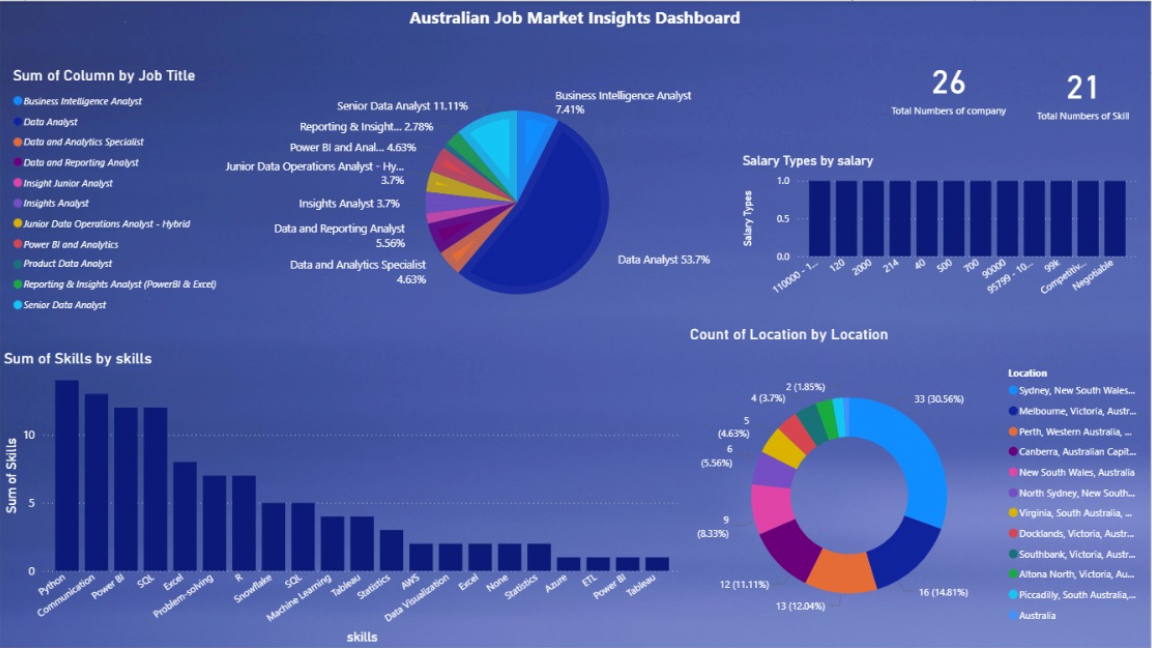

What the dashboard file says about the page in this screenshot:
{"tool":"powerbi","page":{"name":"Page 1","canvas":[1280,720],"ordinal":0},"visuals":[{"type":"textbox","box":[0,0,1280,41.3],"z":0},{"type":"pieChart","fields":{"Category":["Australian_Job_Market.job_title"],"Y":["select","Sum(Australian_Job_Market.Column)"]},"box":[0,72,905.8,287.9],"z":1000},{"type":"columnChart","fields":{"Category":["Australian_Job_Market.skills"],"Y":["Sum(Australian_Job_Market.count)"]},"box":[0,386.7,762.8,333],"z":2000},{"type":"donutChart","fields":{"Category":["Australian_Job_Market.Location"],"Y":["Sum(Australian_Job_Market.Column 2)"]},"box":[762.8,359.8,517.2,358.9],"z":3000},{"type":"card","fields":{"Values":["Australian_Job_Market.Measure"]},"box":[980.6,19.2,149.7,149.7],"z":3001},{"type":"card","fields":{"Values":["Australian_Job_Market.Measure 2"]},"box":[1130.3,27.8,149.7,144.9],"z":3002},{"type":"columnChart","fields":{"Category":["Australian_Job_Market.salary"],"Y":["Australian_Job_Market.Measure 3"]},"box":[821.3,168.9,448.1,169.8],"z":3003}]}

Visuals, with their boxes in screenshot pixels (x1, y1, x2, y2), scaled from the page's 1280x720 canvas onto the 1152x648 screenshot:
textbox: select_region(0, 0, 1151, 37)
pieChart - Australian_Job_Market.job_title x select: select_region(0, 65, 815, 324)
columnChart - Australian_Job_Market.skills x Sum(Australian_Job_Market.count): select_region(0, 348, 687, 647)
donutChart - Australian_Job_Market.Location x Sum(Australian_Job_Market.Column 2): select_region(687, 324, 1151, 647)
card - Australian_Job_Market.Measure: select_region(883, 17, 1017, 152)
card - Australian_Job_Market.Measure 2: select_region(1017, 25, 1151, 155)
columnChart - Australian_Job_Market.salary x Australian_Job_Market.Measure 3: select_region(739, 152, 1142, 305)
